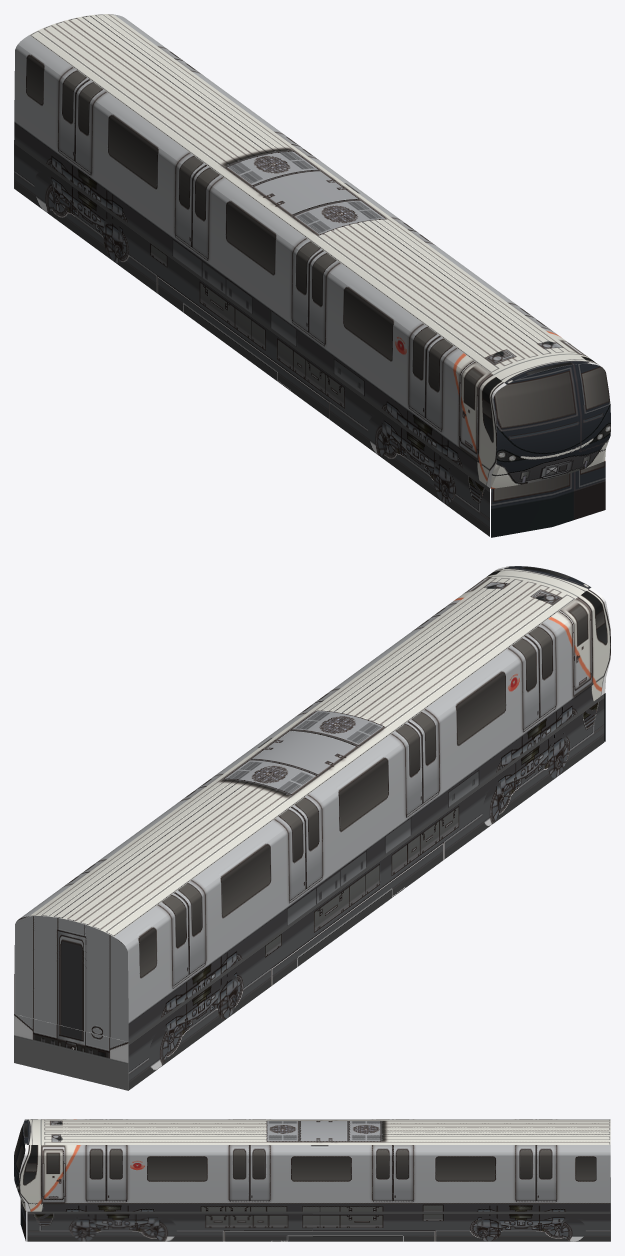
File: car1.glb
The picture shows the model from 3 angles, top to bottom: view 1: azimuth 30°, elevation 25°; view 2: azimuth 150°, elevation 25°; view 3: azimuth 270°, elevation 25°; orthographic projection. The views are drawn at different scales.
Visible parts, largest first — view 1: tokyu-6020-car1; view 2: tokyu-6020-car1; view 3: tokyu-6020-car1.
Boxes of the visible parts, bbox=[...] form: tokyu-6020-car1: bbox=[14, 14, 610, 537]; tokyu-6020-car1: bbox=[14, 566, 610, 1090]; tokyu-6020-car1: bbox=[14, 1119, 610, 1241].
Bounding box in the file's own units: 2.78 × 3.62 × 20.47.
Materials: 9 (8 with a texture image).
